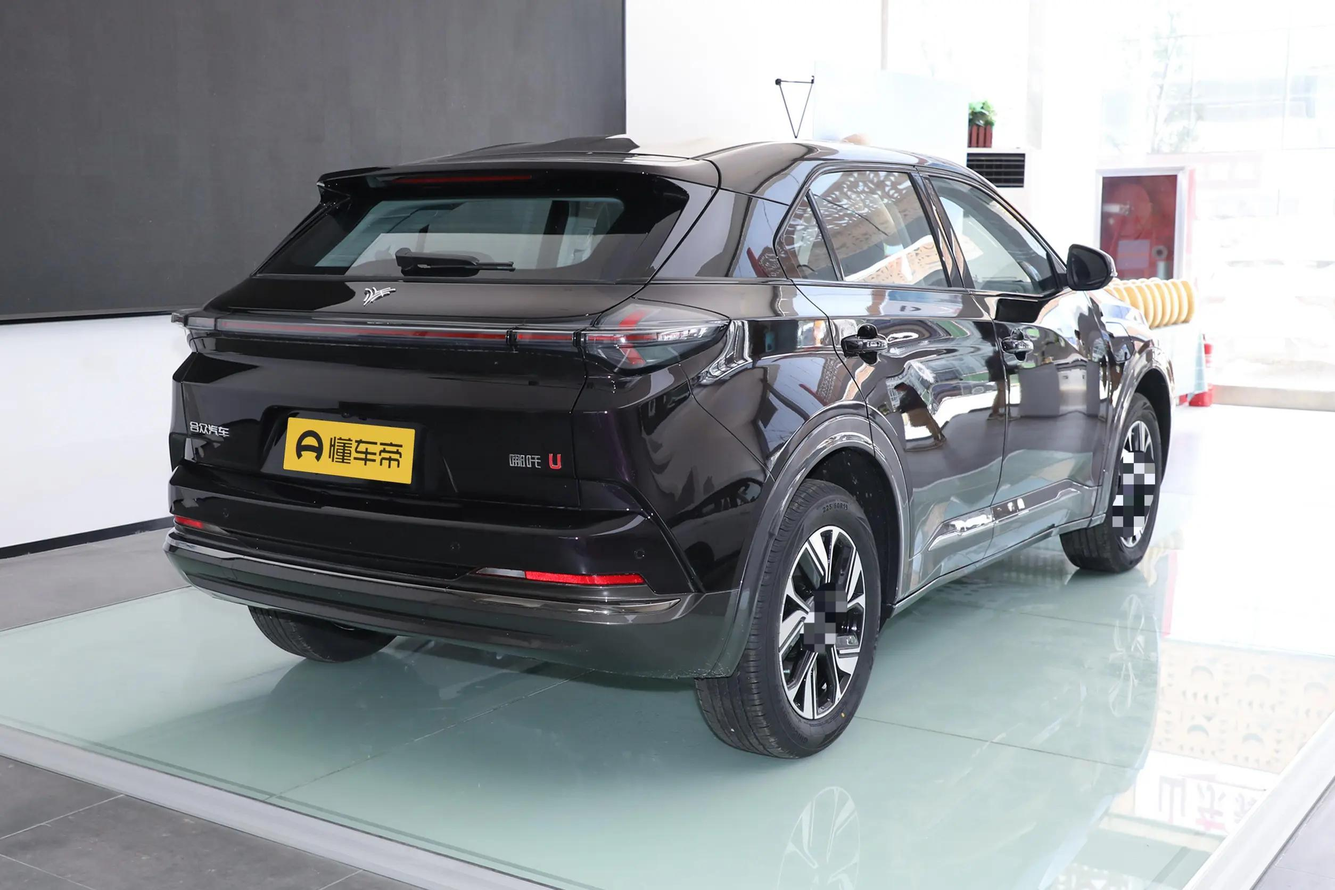NETA: (361, 285, 397, 307)
